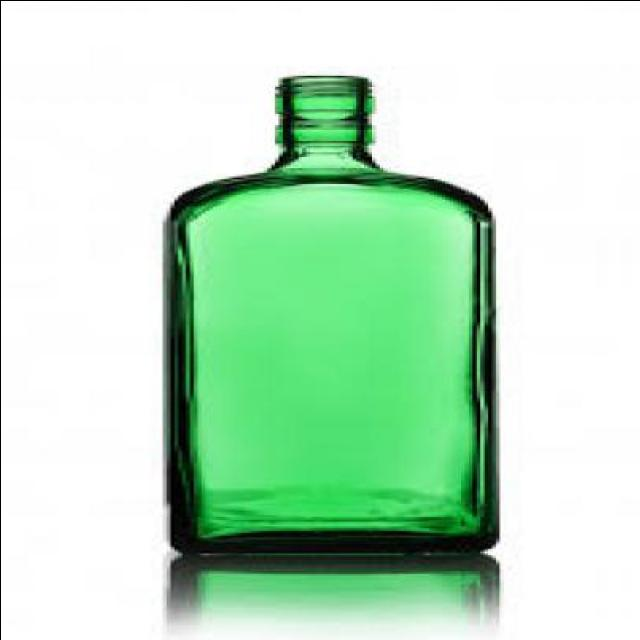kaca: (158, 75, 496, 552)
